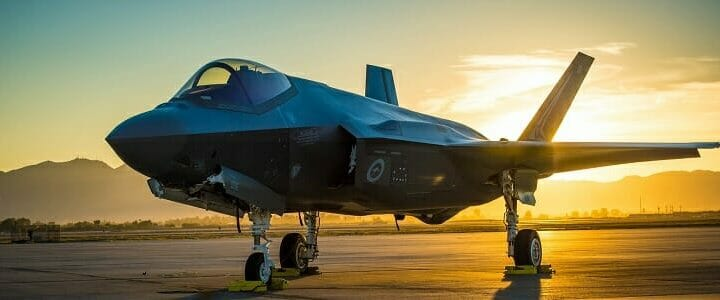F-35 Lightning: (96, 15, 687, 293)
